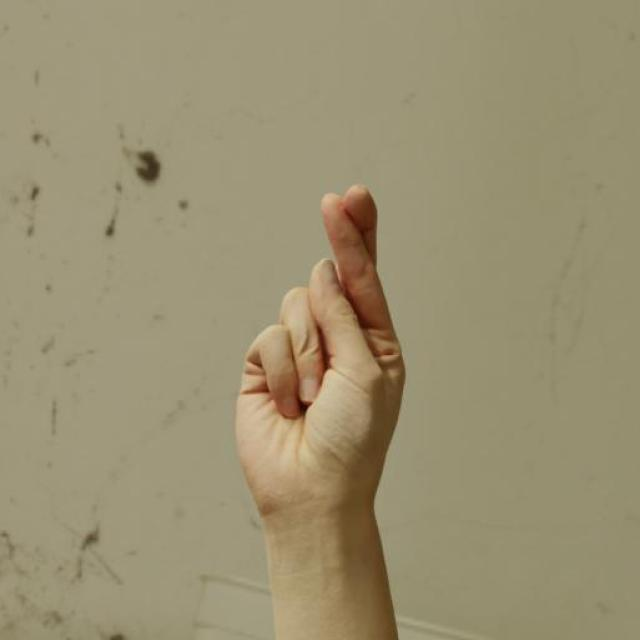R: (234, 184, 407, 510)
